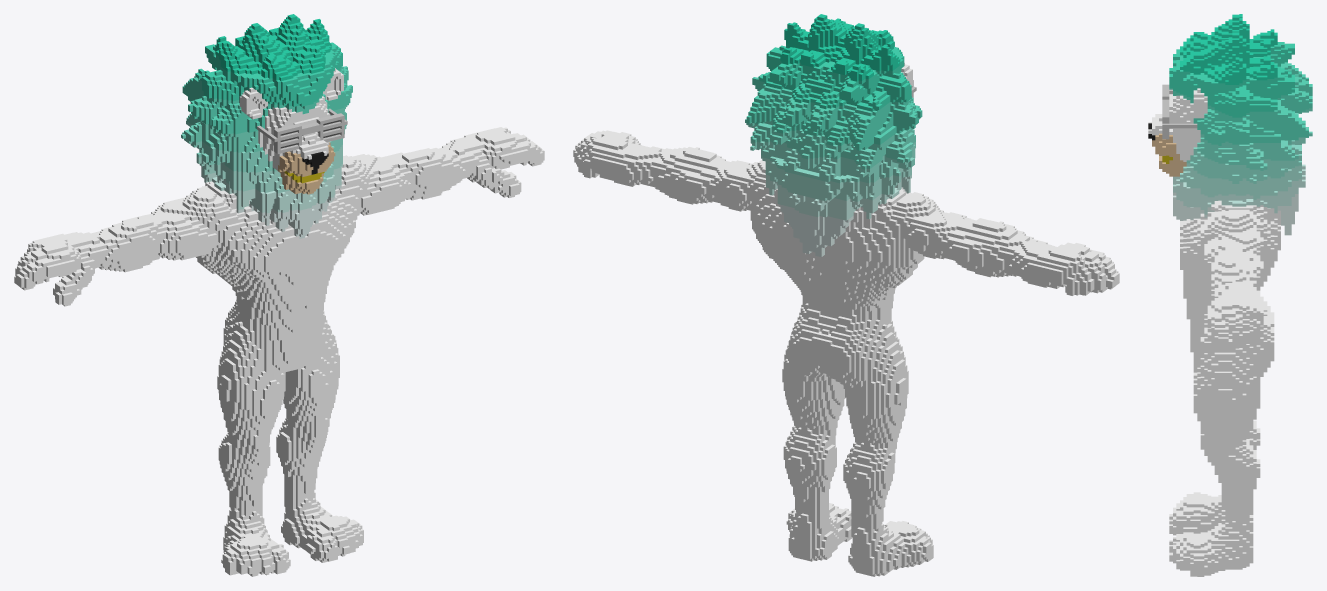
File: 511-D6kXx_5I.fbx
3 renders of one model, left to right at view 1: azimuth 30°, elevation 25°; view 2: azimuth 150°, elevation 25°; view 3: azimuth 270°, elevation 25°, orthographic. The views are drawn at different scales.
Visible parts, largest first — view 1: gold_smile; view 2: gold_smile; view 3: gold_smile.
Part boxes in pixels (box(x1,y1,x2,y2)): gold_smile: box(14, 14, 544, 576); gold_smile: box(573, 14, 1119, 576); gold_smile: box(1148, 14, 1312, 576).
Bounding box in the file's own units: 17.2 × 16.5 × 4.7.
Materials: 4 (4 with a texture image).
